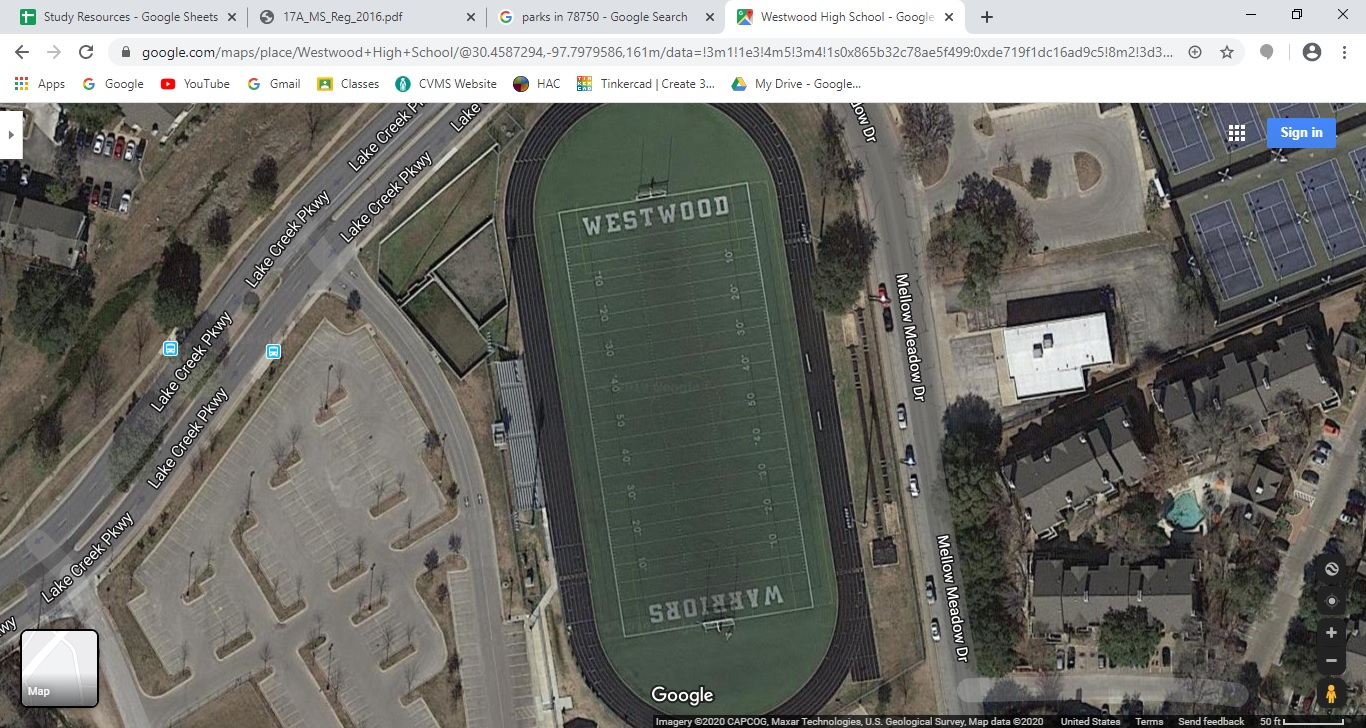football: (441, 104, 957, 714)
